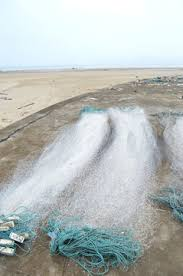net: (46, 196, 143, 267), (111, 105, 161, 181), (4, 161, 57, 222), (72, 103, 108, 158), (141, 181, 183, 219)
